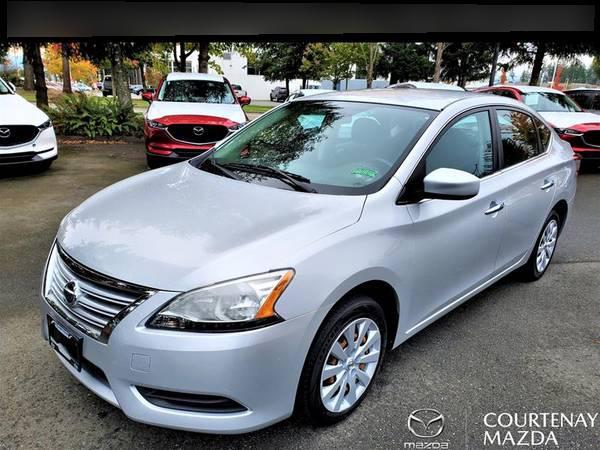Front_Bumper: (45, 285, 335, 433)
Front_Fender: (274, 178, 415, 343)
Front_Left_Door: (410, 171, 508, 336)
Front_Left_Window: (403, 108, 497, 207)
Front_Windshield: (189, 97, 434, 194)
Grille: (42, 231, 153, 335)
Hood: (58, 161, 366, 289)
Left_Headlight: (142, 265, 292, 330)
Rear_Fender: (542, 140, 577, 208)
Rear_Left_Window: (497, 107, 554, 174)
Rear_Right_Door: (498, 154, 558, 279)
Roof: (292, 83, 562, 195)
Wheel: (304, 295, 388, 418), (534, 215, 562, 274)
